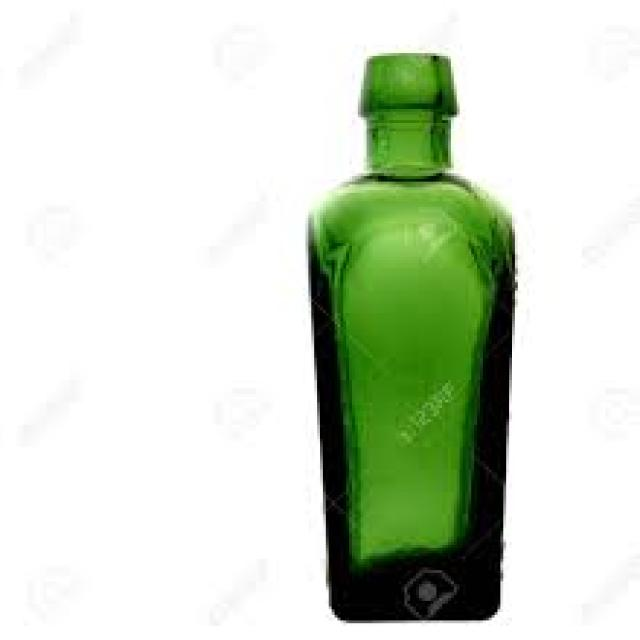glass: (303, 50, 512, 618)
